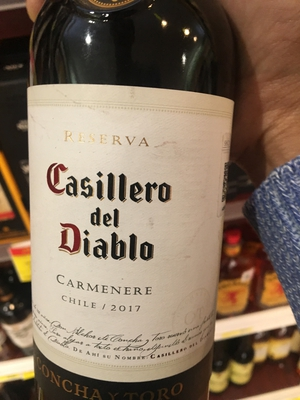casillero del diablo carmenere: (28, 13, 241, 400)
